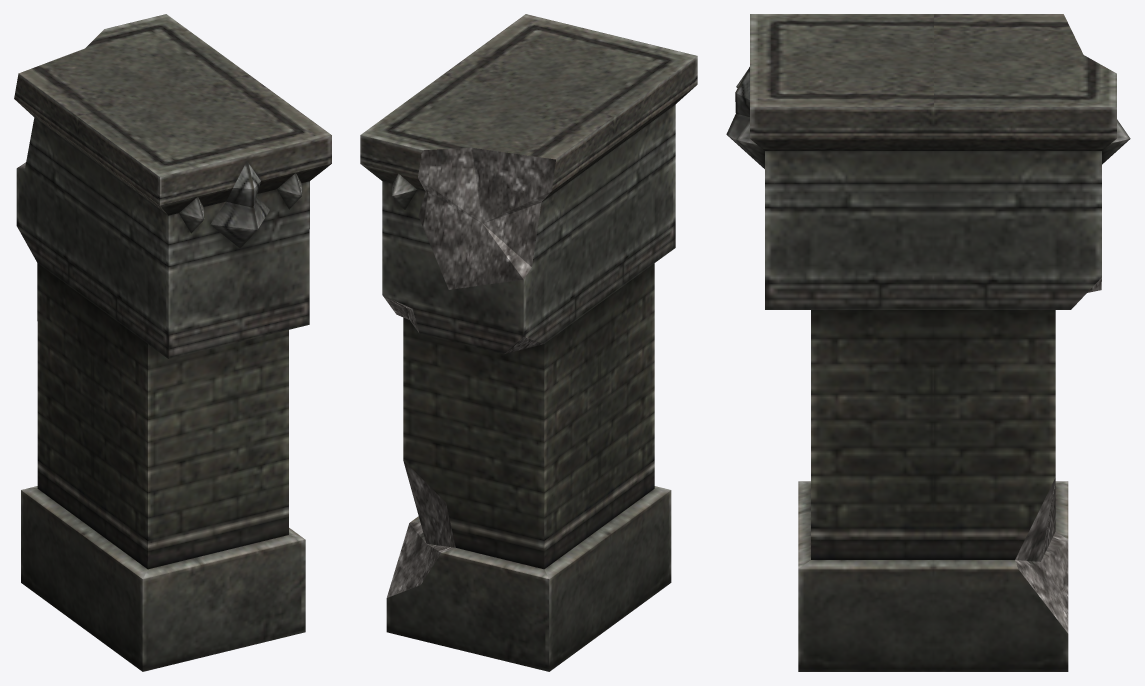
The picture shows the model from 3 angles, left to right: view 1: azimuth 30°, elevation 25°; view 2: azimuth 150°, elevation 25°; view 3: azimuth 270°, elevation 25°; orthographic projection. The views are drawn at different scales.
Parts seen in each view (by area): view 1: object22; view 2: object22; view 3: object22.
Part boxes in pixels (left/top/right/bottom): object22: left=14, top=14, right=331, bottom=671; object22: left=360, top=14, right=697, bottom=671; object22: left=726, top=14, right=1130, bottom=671.
Bounding box in the file's own units: 145 × 413 × 267.
2 materials, 2 textured.
